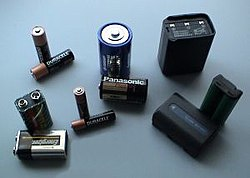Nonrec_Other: (152, 6, 221, 84), (151, 88, 224, 158), (197, 68, 245, 126), (95, 16, 135, 74), (20, 46, 77, 82), (10, 91, 58, 129), (96, 73, 156, 102), (13, 130, 71, 157), (69, 108, 119, 132), (30, 25, 54, 60), (70, 86, 92, 118)
